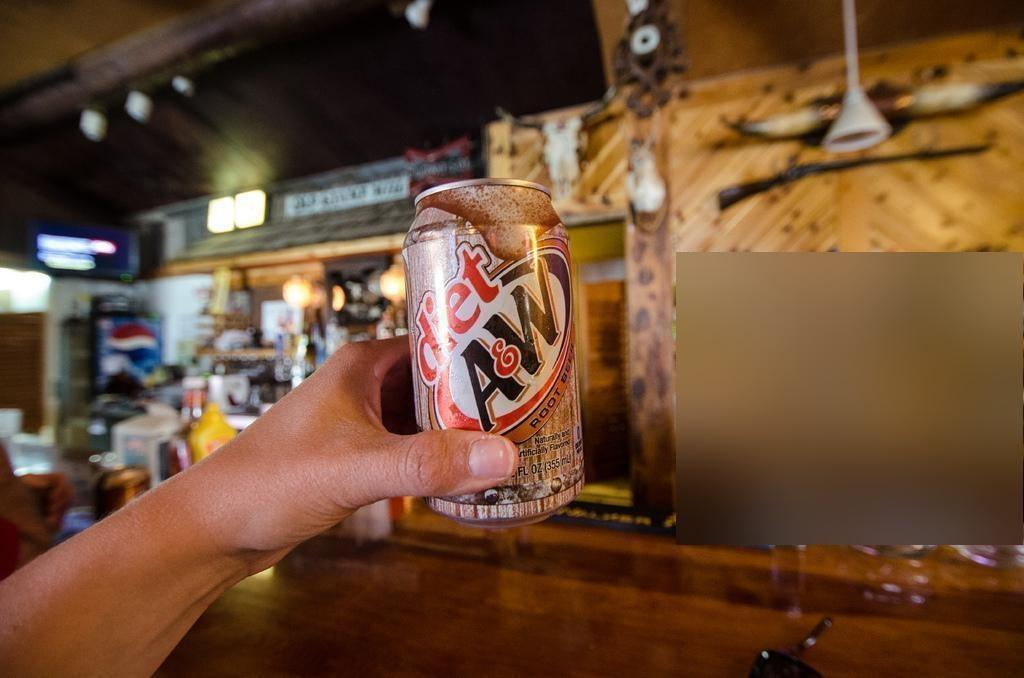tin can: (402, 179, 588, 527)
